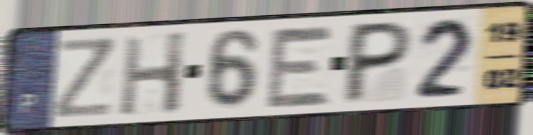2: (409, 14, 479, 105)
6: (203, 27, 262, 112)
E: (264, 24, 337, 110)
H: (117, 29, 190, 118)
P: (338, 18, 417, 107)
Z: (53, 34, 118, 121)
